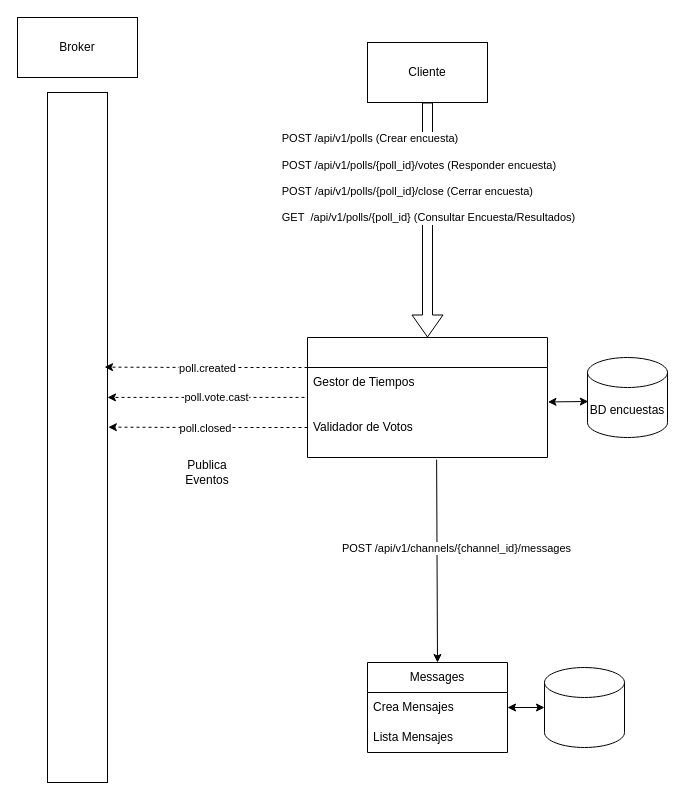
This 685x800 diagram has some shape labels left out. The shapes that lost their labels are listed below. From the top down, each one's box as (x1, y1, x2, y2) in pixels, then its label:
(306, 336, 548, 458): Microservicio de Encuestas
(544, 666, 624, 748): MongoDB
